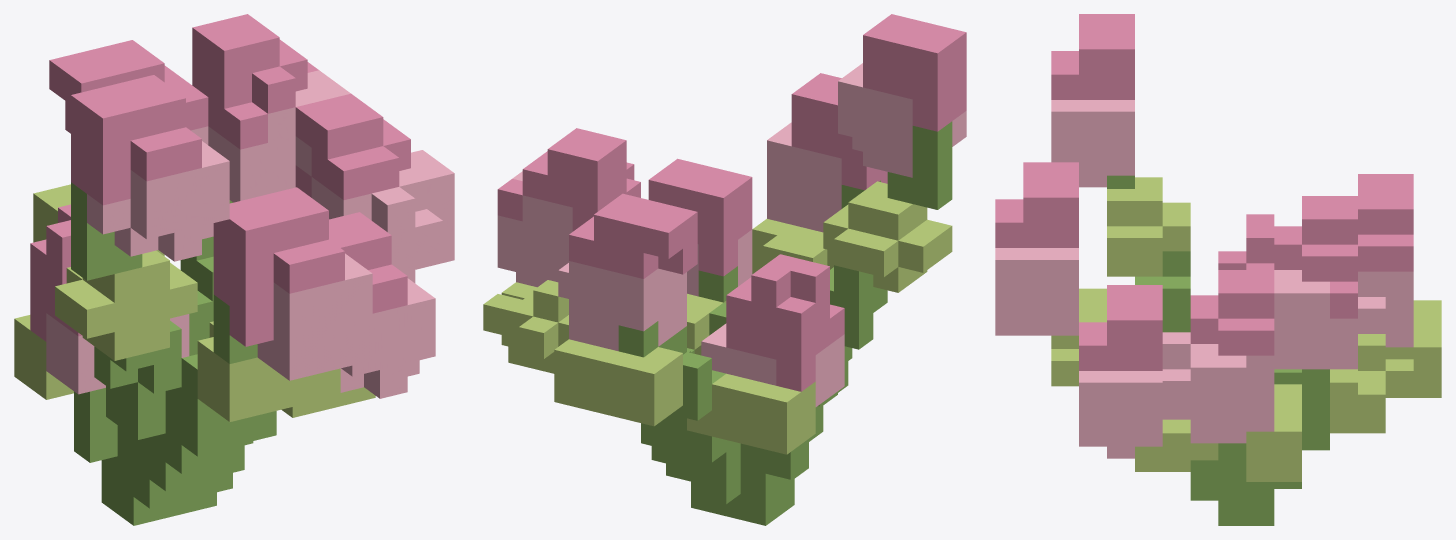
File: sakura_bellflowers.glb
3 views of the same model, side by side, from view 1: azimuth 30°, elevation 25°; view 2: azimuth 150°, elevation 25°; view 3: azimuth 270°, elevation 25° (orthographic). The views are drawn at different scales.
Size of the model in its own units: 0.625 by 0.7083 by 0.6667.
